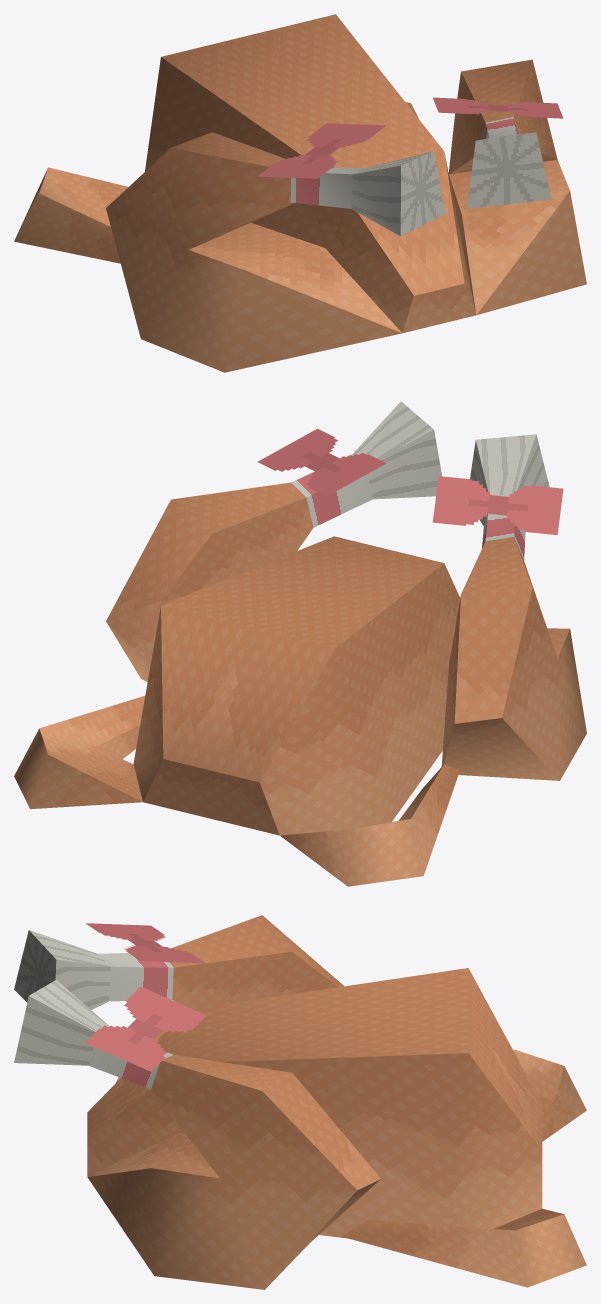
Rendered from 030c_Turkey.glb.
3 renders of one model, top to bottom at view 1: azimuth 30°, elevation 25°; view 2: azimuth 150°, elevation 25°; view 3: azimuth 270°, elevation 25°, orthographic.
Parts seen in each view (by area): view 1: part_0; view 2: part_0; view 3: part_0.
Part boxes in pixels (x1,y1,x2,y2): part_0: (14,14,586,372); part_0: (14,401,586,886); part_0: (14,915,586,1289).
Size of the model in its own units: 0.4046 by 0.2081 by 0.4801.
Materials: 1 (1 with a texture image).
